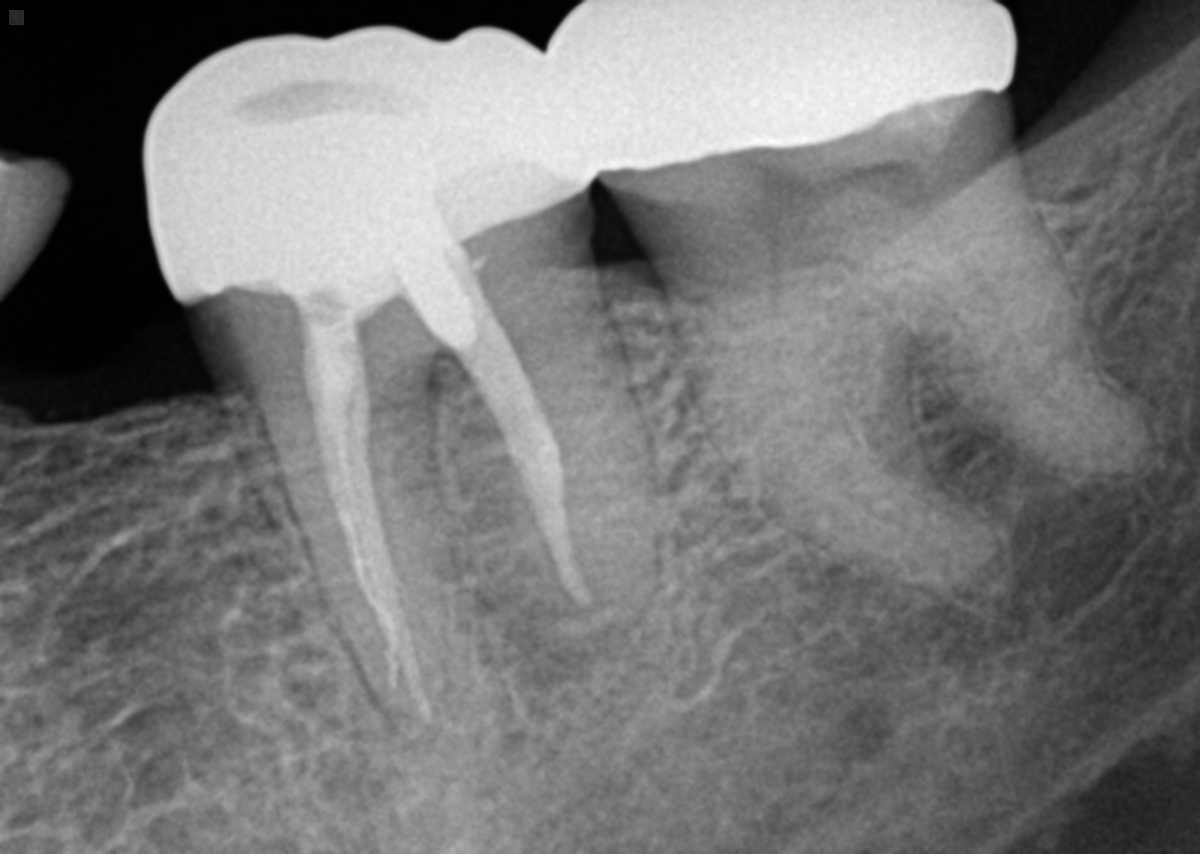Distal Canal: (911, 199, 1118, 450)
Distal Root: (855, 87, 1153, 478), (414, 196, 659, 655)
Mesial Canal: (762, 248, 843, 491)
Mesial Root: (663, 218, 994, 583), (184, 297, 457, 730)
Root Canal Filling: (305, 316, 438, 727), (452, 256, 592, 607)
